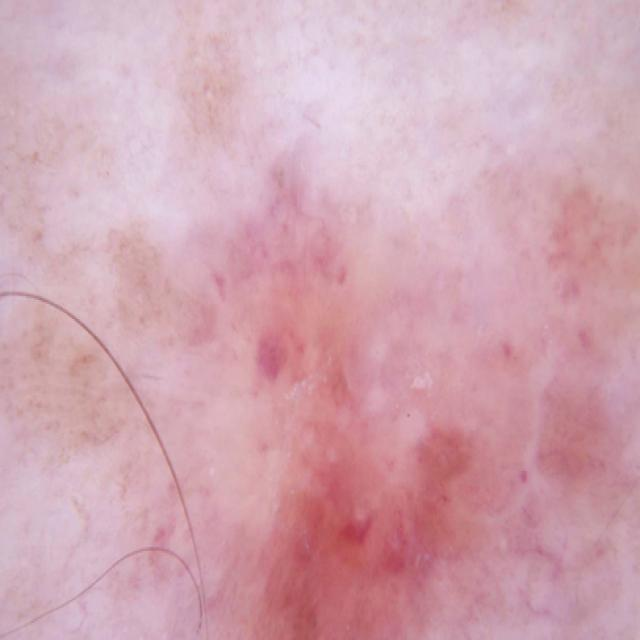Carcinoma: (230, 393, 488, 640), (525, 176, 639, 513), (227, 198, 386, 384)
